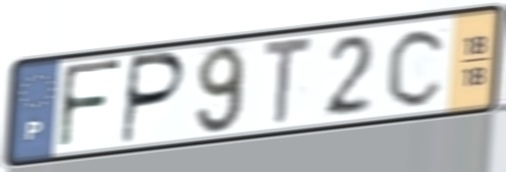2: (321, 31, 378, 122)
9: (192, 43, 251, 138)
C: (383, 24, 451, 110)
F: (55, 57, 125, 153)
P: (117, 49, 189, 148)
T: (261, 33, 316, 130)
